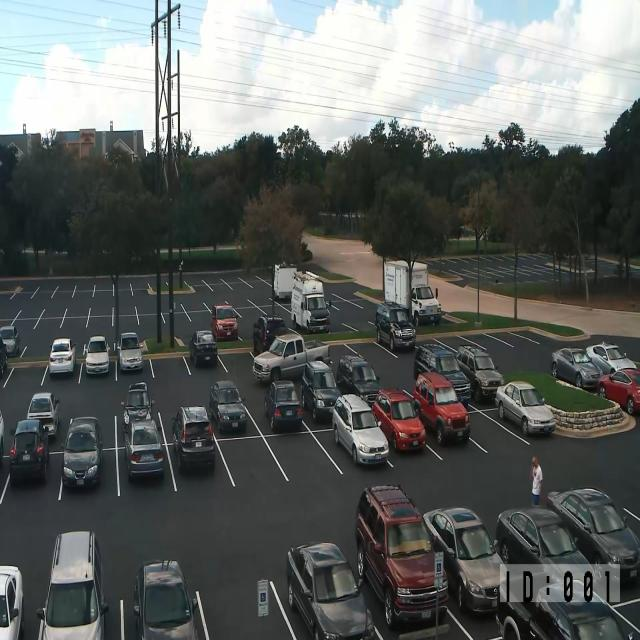car: (355, 484, 449, 630), (494, 505, 594, 604), (495, 572, 640, 640), (422, 506, 506, 616), (546, 486, 640, 584), (286, 541, 375, 639), (36, 530, 109, 639), (133, 559, 200, 639), (528, 598, 640, 639), (413, 371, 471, 446), (332, 393, 389, 466), (252, 332, 331, 384), (414, 343, 472, 410), (372, 387, 427, 452), (495, 381, 556, 436), (61, 415, 103, 489), (172, 405, 216, 473), (456, 345, 504, 403), (300, 359, 342, 422), (9, 418, 49, 482), (124, 418, 164, 480), (336, 354, 381, 407), (550, 347, 603, 390), (263, 379, 303, 432), (596, 367, 640, 415), (375, 301, 416, 351), (210, 380, 248, 432), (0, 564, 24, 639), (586, 340, 637, 374), (121, 381, 154, 433), (413, 342, 456, 379), (26, 392, 60, 438), (252, 314, 286, 356), (411, 283, 441, 327), (116, 332, 144, 372), (189, 329, 218, 367), (83, 335, 110, 375), (211, 303, 238, 342), (49, 337, 76, 375), (0, 324, 20, 356), (0, 336, 7, 377), (0, 408, 4, 467)
